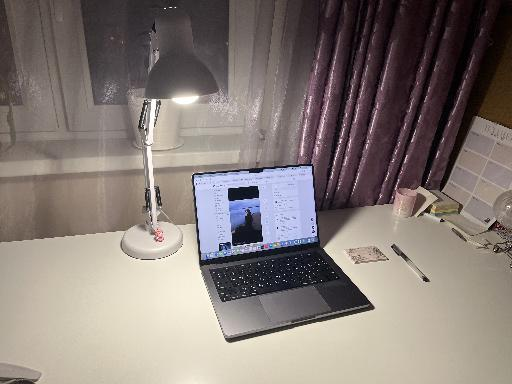vk: (193, 174, 318, 255)
